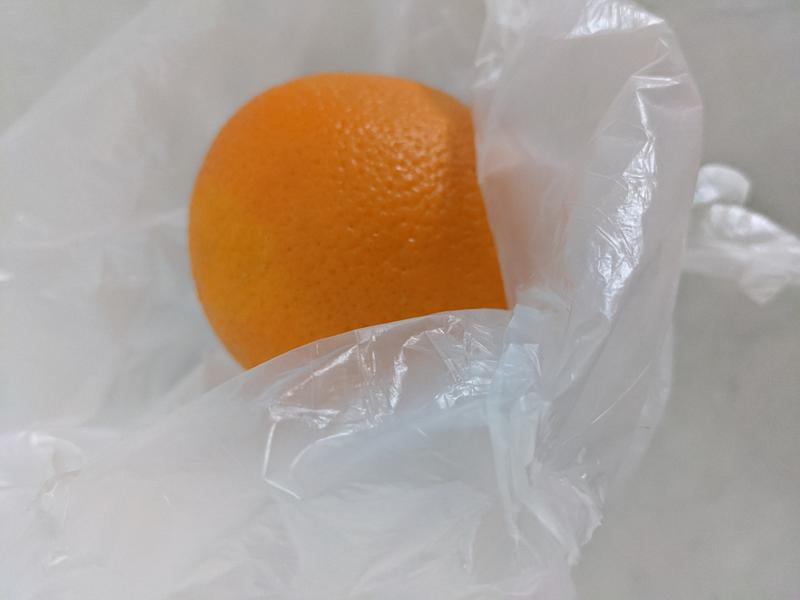orange: (188, 71, 524, 378)
